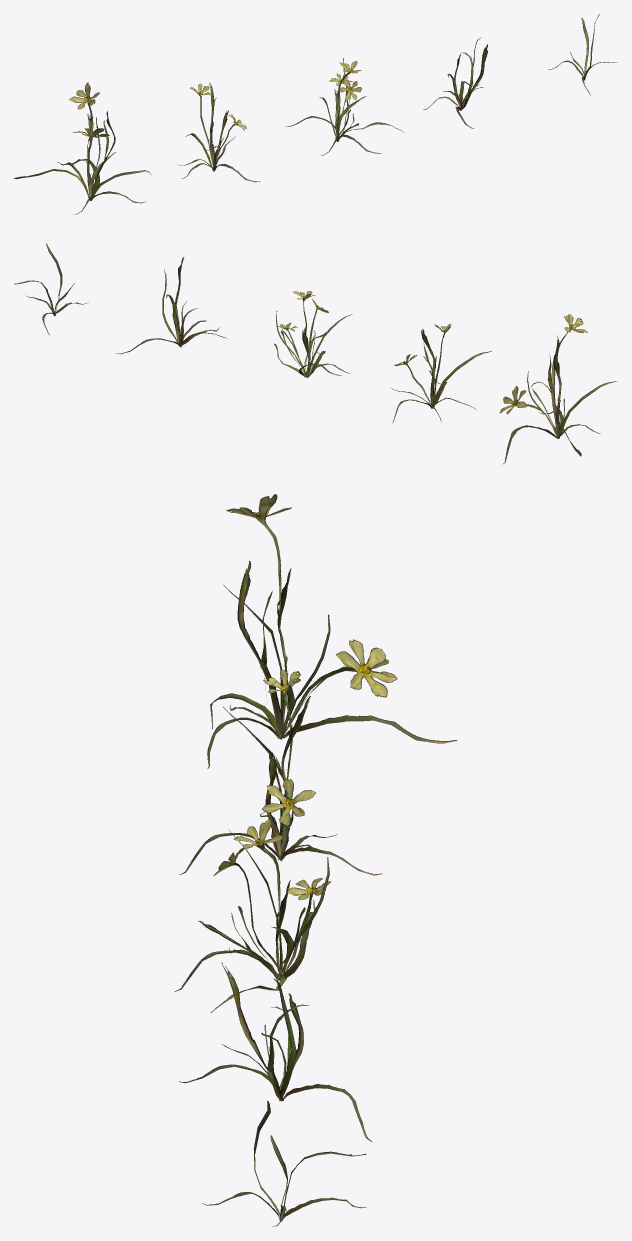
Rendered from flower_empodium.gltf.
3 views of the same model, one above another, from view 1: azimuth 30°, elevation 25°; view 2: azimuth 150°, elevation 25°; view 3: azimuth 270°, elevation 25° (orthographic). The views are drawn at different scales.
Parts seen in each view (by area): view 1: flower_empodium_a_LOD0, flower_empodium_c_LOD0, flower_empodium_b_LOD0, flower_empodium_d_LOD0, flower_empodium_e_LOD0; view 2: flower_empodium_a_LOD0, flower_empodium_c_LOD0, flower_empodium_b_LOD0, flower_empodium_d_LOD0, flower_empodium_e_LOD0; view 3: flower_empodium_a_LOD0, flower_empodium_c_LOD0, flower_empodium_b_LOD0, flower_empodium_d_LOD0, flower_empodium_e_LOD0.
Part boxes in pixels (left/top/right/bottom): flower_empodium_a_LOD0: left=14, top=82, right=151, bottom=214; flower_empodium_c_LOD0: left=286, top=58, right=403, bottom=155; flower_empodium_b_LOD0: left=178, top=82, right=259, bottom=182; flower_empodium_d_LOD0: left=423, top=38, right=487, bottom=128; flower_empodium_e_LOD0: left=548, top=14, right=617, bottom=95; flower_empodium_a_LOD0: left=499, top=314, right=616, bottom=463; flower_empodium_c_LOD0: left=274, top=291, right=352, bottom=377; flower_empodium_b_LOD0: left=390, top=323, right=491, bottom=423; flower_empodium_d_LOD0: left=116, top=257, right=226, bottom=354; flower_empodium_e_LOD0: left=14, top=243, right=88, bottom=335; flower_empodium_a_LOD0: left=207, top=494, right=457, bottom=768; flower_empodium_c_LOD0: left=174, top=819, right=330, bottom=1012; flower_empodium_b_LOD0: left=179, top=669, right=382, bottom=875; flower_empodium_d_LOD0: left=178, top=962, right=371, bottom=1141; flower_empodium_e_LOD0: left=202, top=1101, right=366, bottom=1226.
Bounding box in the file's own units: 1.32 × 0.2684 × 0.2841.
1 material, 1 textured.
